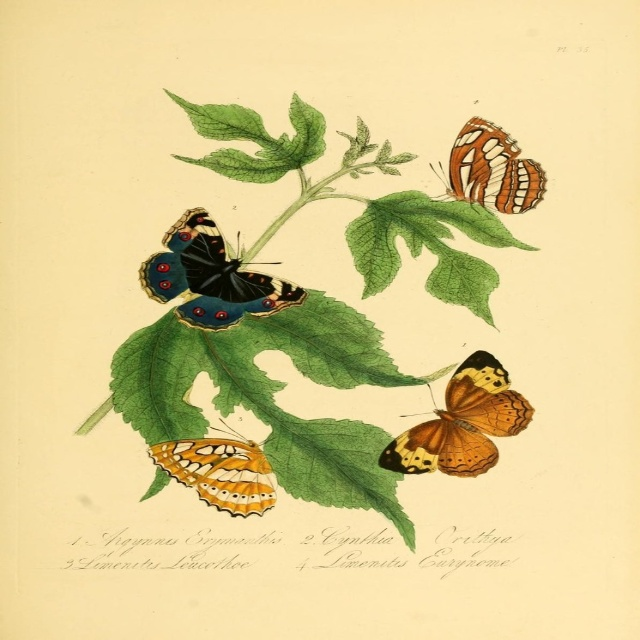Butterfly: (138, 205, 314, 330), (378, 350, 535, 477), (154, 420, 291, 516)
